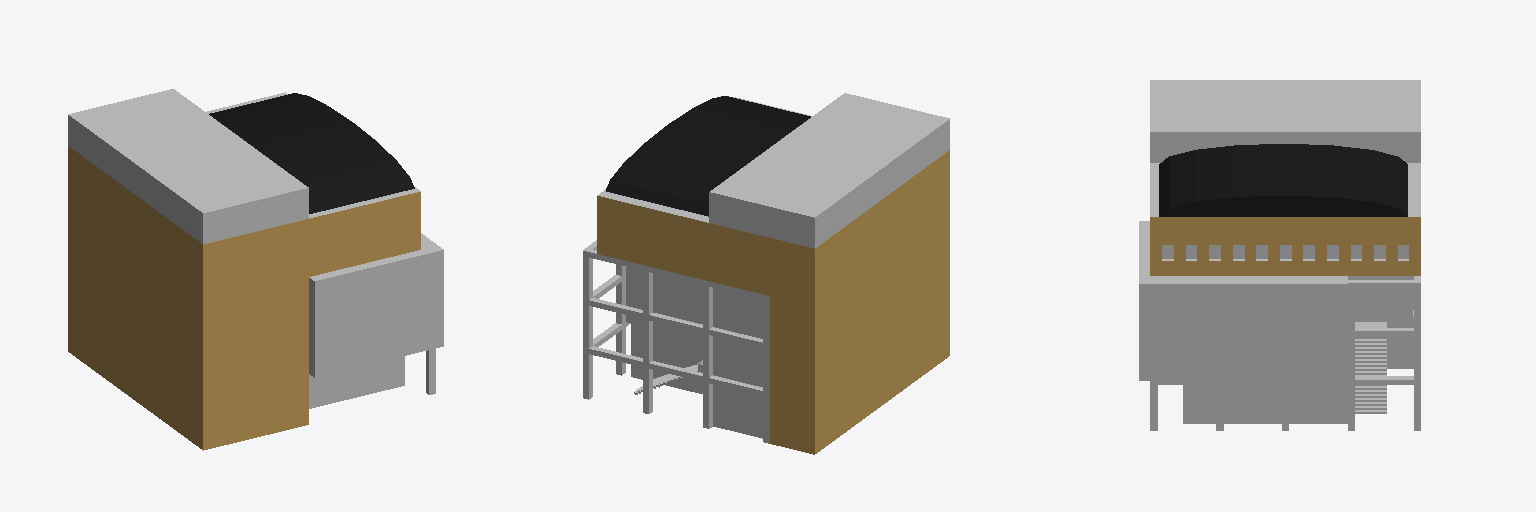
Rendered from seikyo.obj.
3 renders of one model, left to right at view 1: azimuth 30°, elevation 25°; view 2: azimuth 150°, elevation 25°; view 3: azimuth 270°, elevation 25°, orthographic.
Visible parts, largest first — view 1: Univ_hall; view 2: Univ_hall; view 3: Univ_hall.
Boxes of the visible parts, <box> form: Univ_hall: <box>68,89,443,450</box>; Univ_hall: <box>583,93,949,454</box>; Univ_hall: <box>1139,80,1420,430</box>.
Bounding box in the file's own units: 2.2 × 2.12 × 2.29.